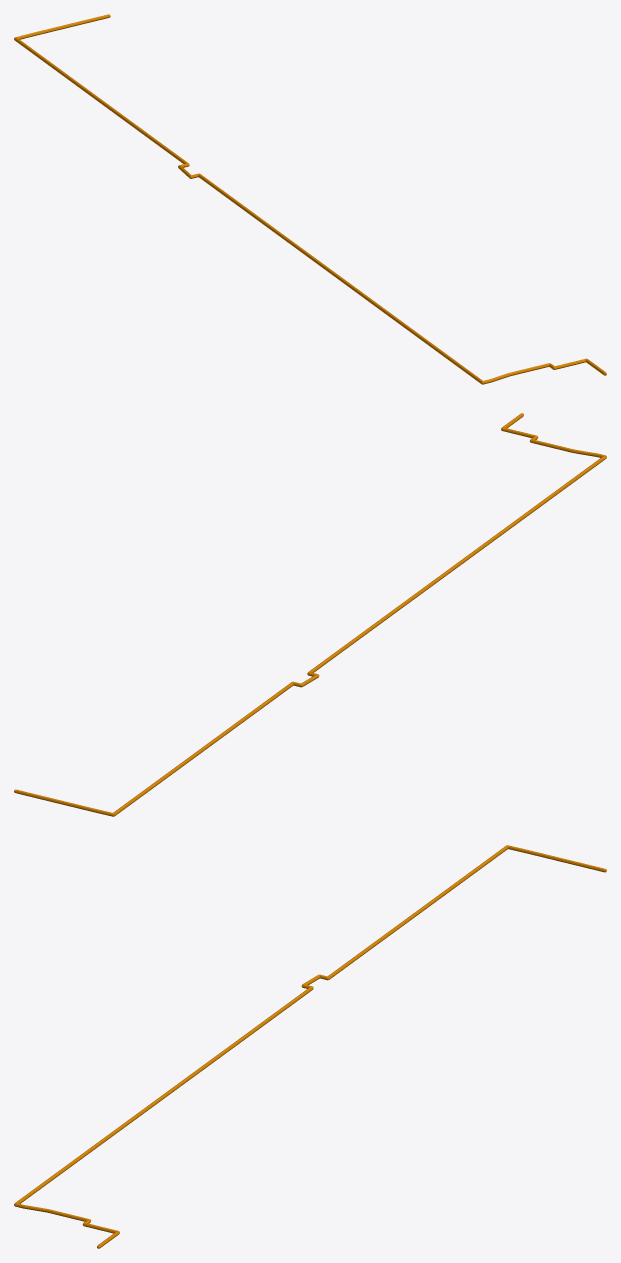
3 renders of one model, top to bottom at view 1: azimuth 30°, elevation 25°; view 2: azimuth 150°, elevation 25°; view 3: azimuth 330°, elevation 25°, orthographic. The views are drawn at different scales.
Bounding box in the file's own units: 697 × 20 × 5297.
